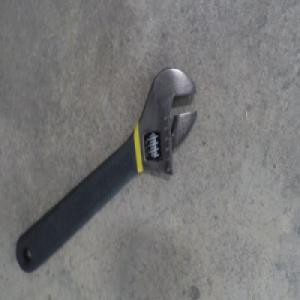AdjustableWrench: (15, 68, 197, 273)
